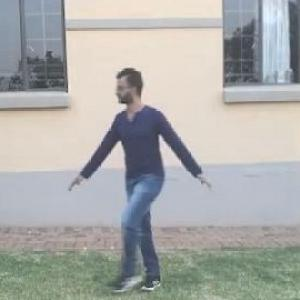land: (72, 80, 208, 259)
